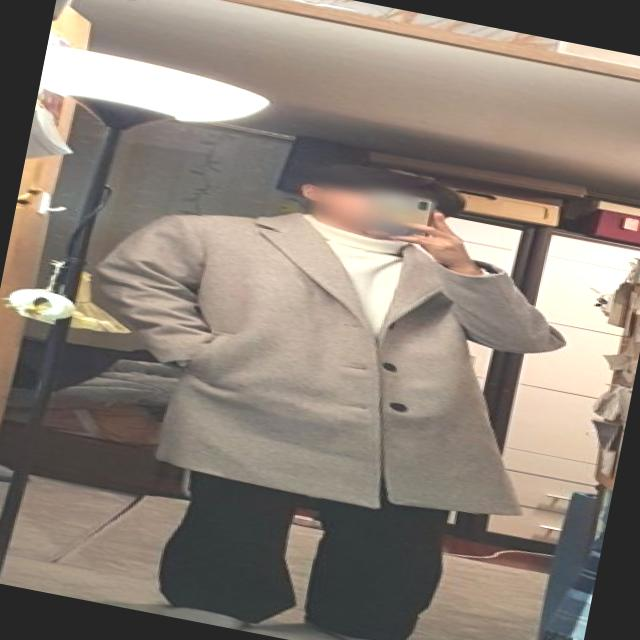coat: (62, 176, 580, 539)
slacks: (149, 454, 455, 640)
